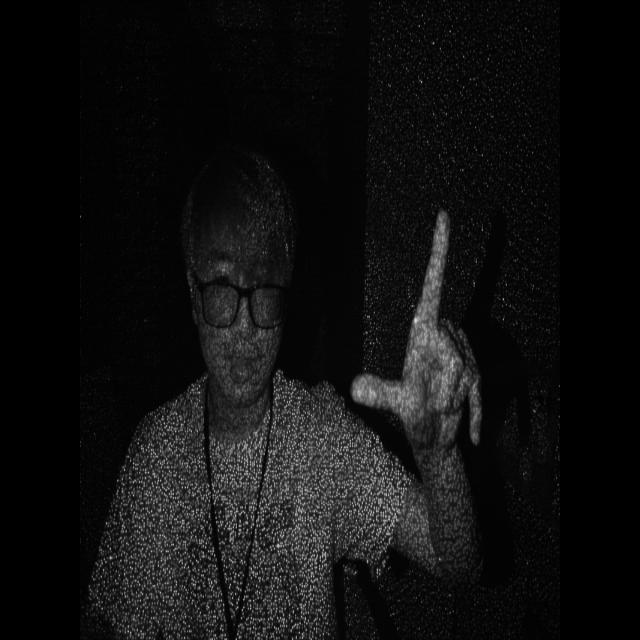L: (345, 190, 498, 492)
